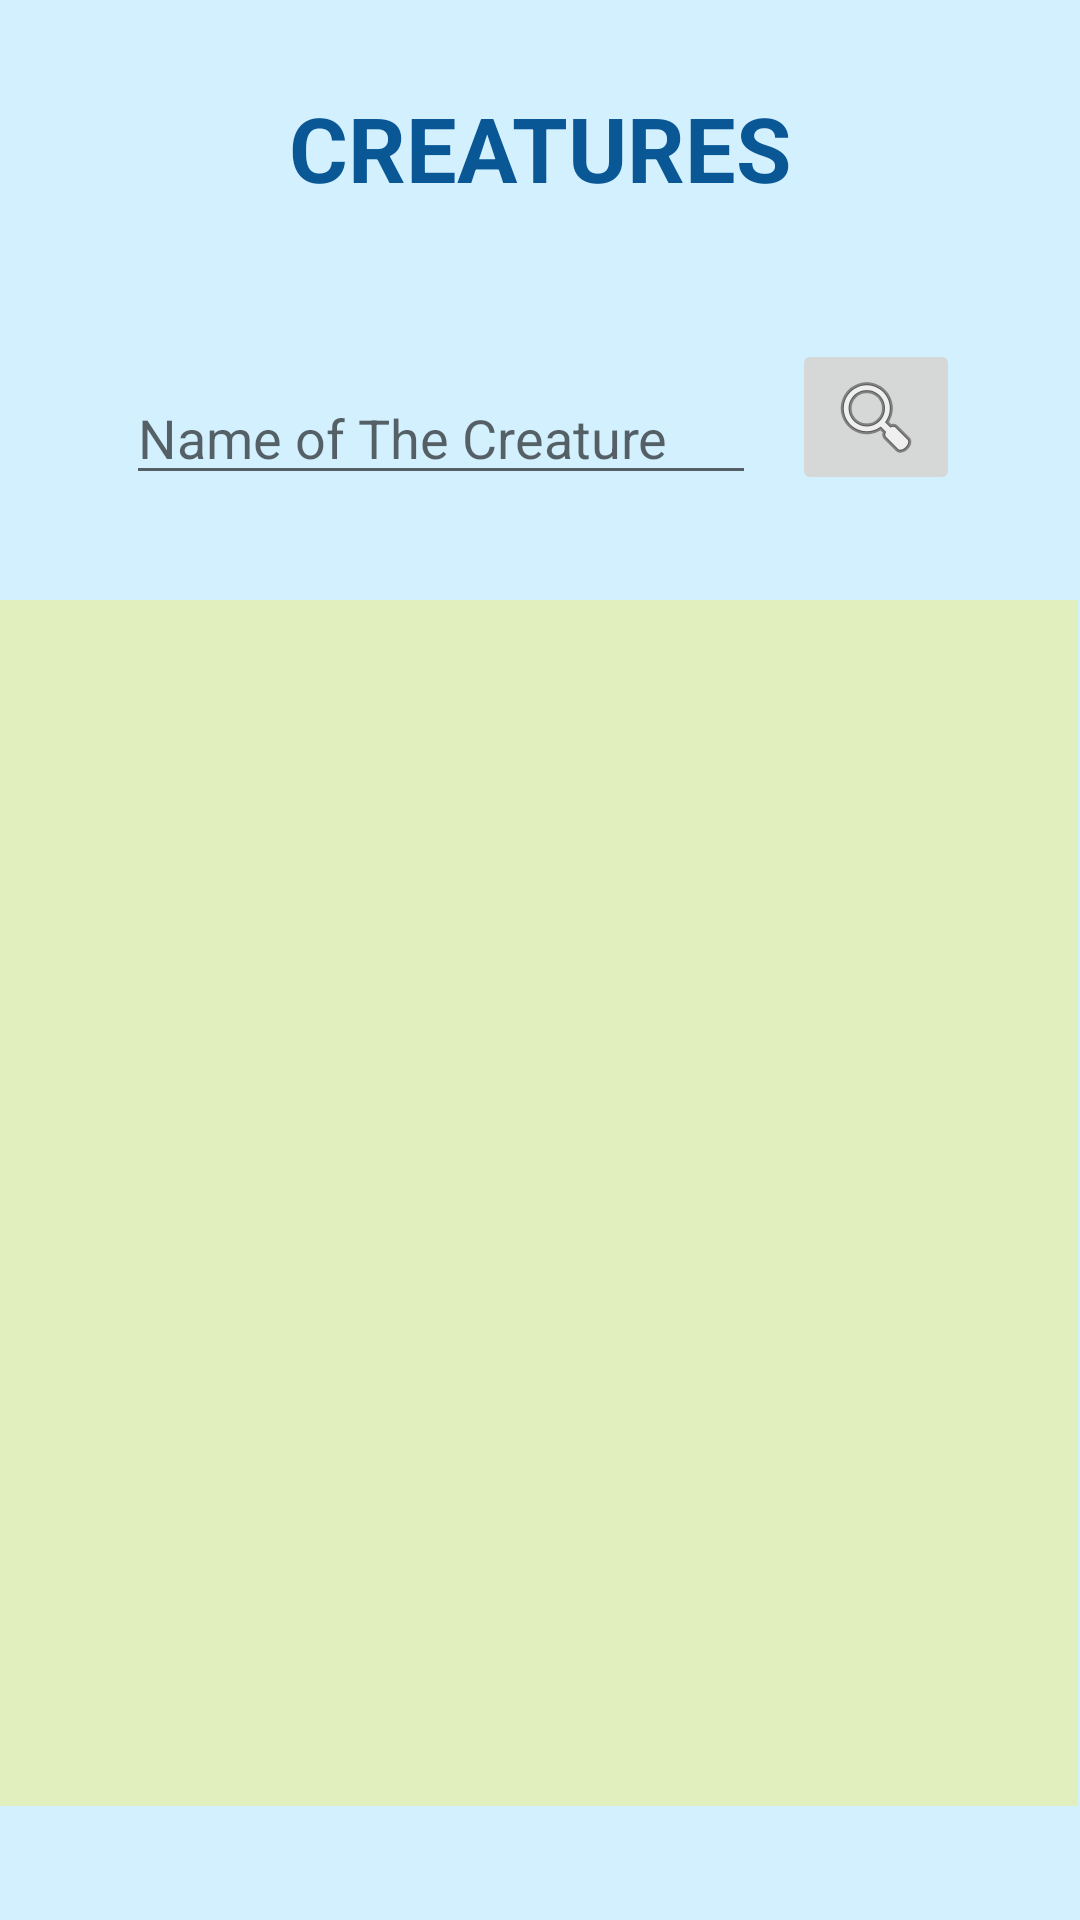

Named icons in this screenshot (1080 x 1920) and their bounding boxes, [x1, y1, x2, y2]:
search: [804, 357, 948, 477]
